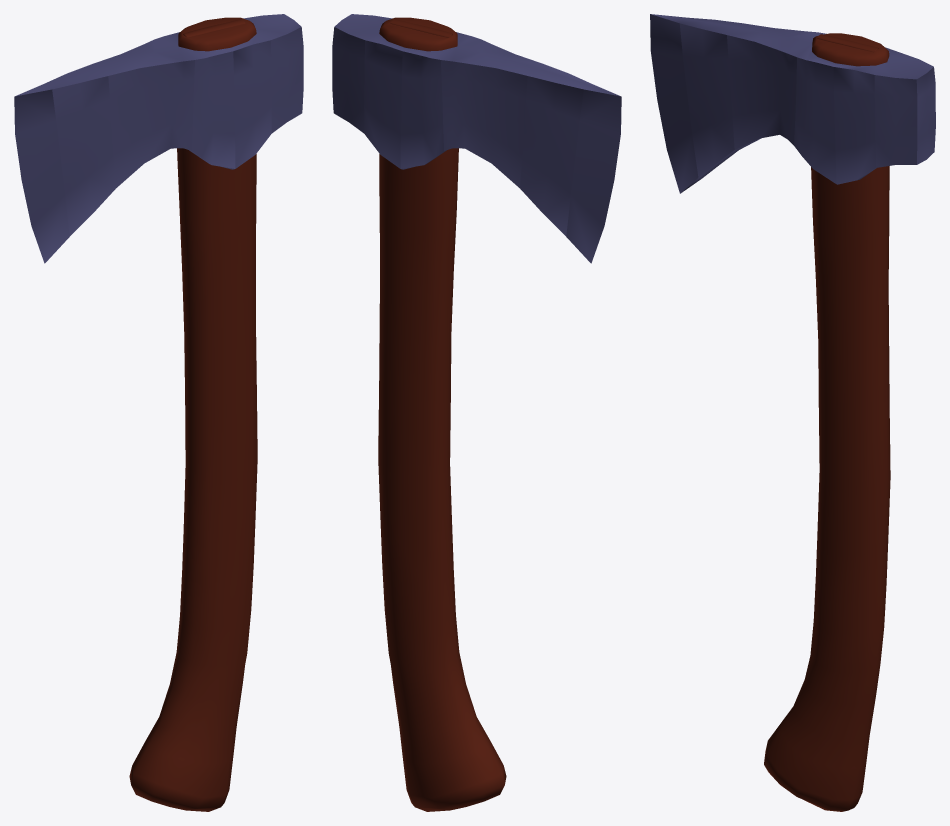
The model's file is Iron_Axe_1.fbx.
3 views of the same model, side by side, from view 1: azimuth 30°, elevation 25°; view 2: azimuth 150°, elevation 25°; view 3: azimuth 330°, elevation 25° (orthographic).
Visible parts, largest first — view 1: Hatchet.001; view 2: Hatchet.001; view 3: Hatchet.001.
Boxes of the visible parts, x1,y1,x2,y2 form: Hatchet.001: [14, 14, 303, 811]; Hatchet.001: [332, 14, 621, 811]; Hatchet.001: [650, 14, 935, 811].
Size of the model in its own units: 19.05 by 50.53 by 4.58.
